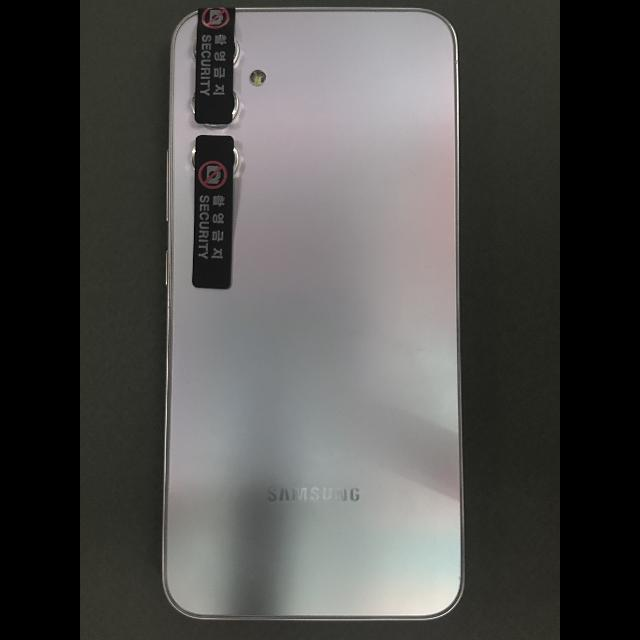lens: (233, 92, 238, 119), (234, 38, 239, 63), (234, 148, 238, 174)
phone: (161, 7, 466, 621)
sticker: (192, 135, 234, 290), (194, 7, 235, 125)
